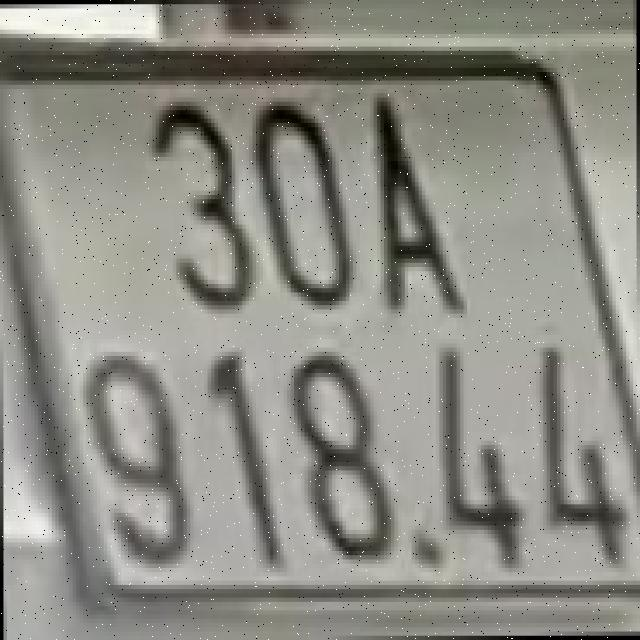0: (256, 98, 356, 310)
1: (204, 347, 284, 568)
3: (145, 96, 256, 312)
4: (532, 341, 630, 570), (431, 343, 524, 572)
8: (292, 348, 396, 564)
9: (80, 345, 194, 566)
A: (365, 89, 479, 318)
